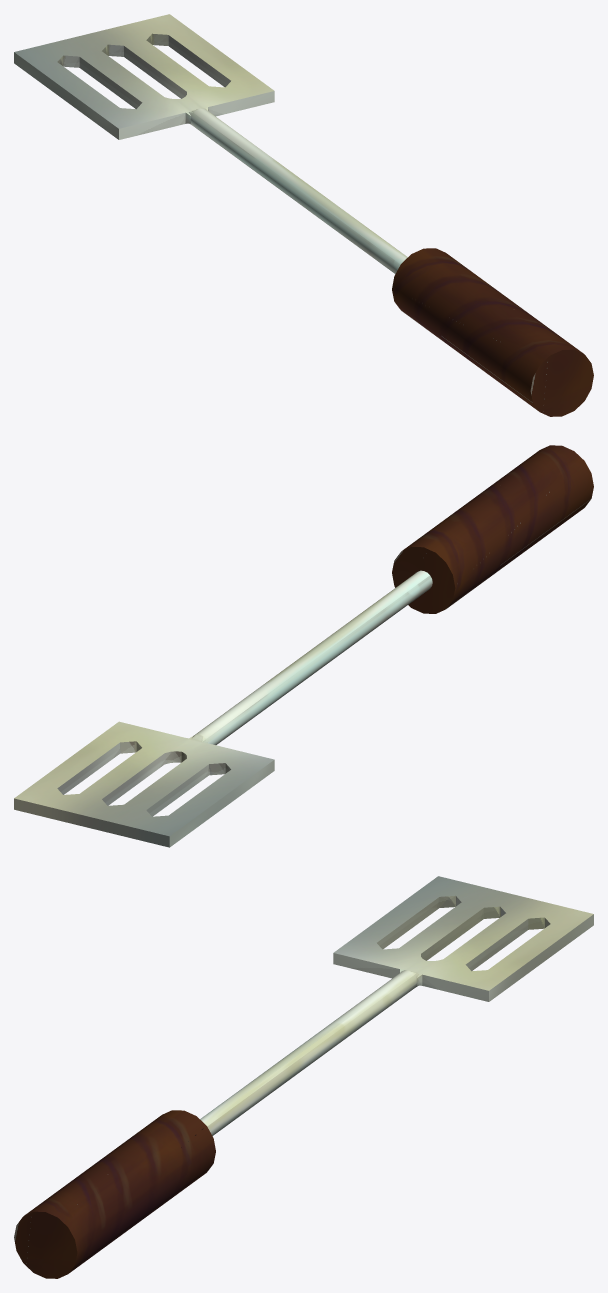
Rendered from Spatula.fbx.
The picture shows the model from 3 angles, top to bottom: view 1: azimuth 30°, elevation 25°; view 2: azimuth 150°, elevation 25°; view 3: azimuth 330°, elevation 25°; orthographic projection.
Visible parts, largest first — view 1: Spatula; view 2: Spatula; view 3: Spatula.
Boxes of the visible parts, x1=… form: Spatula: x1=14, y1=14, x2=593, y2=416; Spatula: x1=14, y1=445, x2=593, y2=847; Spatula: x1=14, y1=876, x2=593, y2=1278.
Bounding box in the file's own units: 13.85 × 5.65 × 72.51.
Materials: 1 (1 with a texture image).
